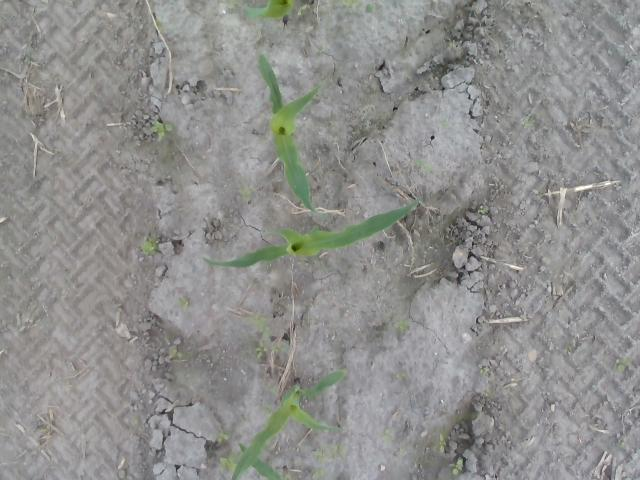Maize: (202, 194, 424, 268), (258, 53, 346, 221), (230, 368, 349, 480), (242, 0, 296, 20)
Weeds: (310, 445, 348, 480), (248, 312, 272, 339), (254, 340, 288, 359), (342, 0, 374, 14), (152, 120, 172, 141), (164, 340, 184, 360), (140, 236, 159, 256), (447, 457, 465, 477), (220, 453, 237, 472), (414, 159, 434, 173), (151, 18, 168, 32), (381, 429, 395, 446), (394, 318, 411, 332), (296, 4, 312, 17), (614, 359, 630, 372), (438, 432, 447, 454), (217, 432, 230, 446), (238, 188, 251, 200), (294, 262, 312, 270), (226, 3, 242, 12), (21, 56, 32, 69), (622, 472, 639, 480), (521, 115, 533, 126), (264, 405, 272, 421), (478, 365, 489, 376), (178, 300, 190, 310), (397, 371, 407, 383), (119, 470, 132, 479), (616, 439, 628, 448), (449, 40, 460, 48), (281, 473, 293, 480), (132, 416, 140, 426), (205, 32, 215, 40), (479, 206, 488, 214), (270, 386, 278, 394), (441, 120, 449, 128), (66, 382, 73, 390)
